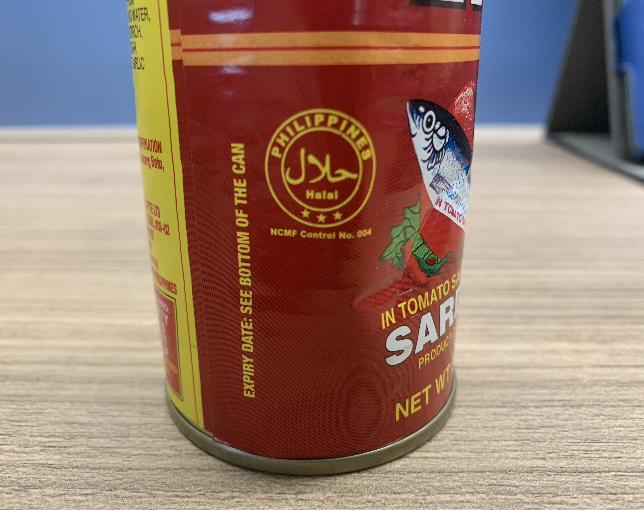halal: (288, 128, 361, 223)
